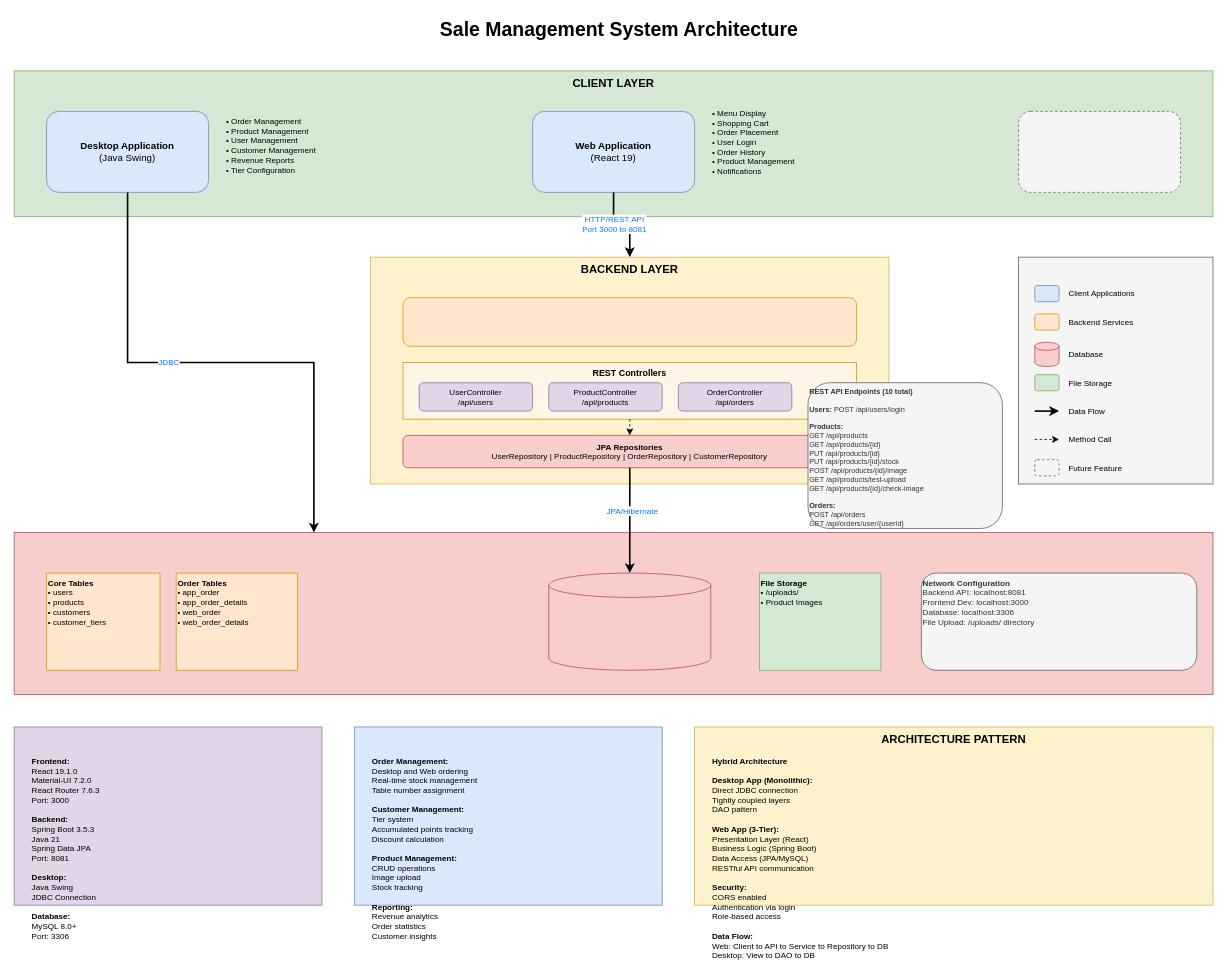
This 1227x974 diagram has some shape labels left out. The box of each missing label's shape, as (x1, y1, x2, y2) in pixels:
DATABASE LAYER: (13, 532, 1213, 695)
KEY FEATURES: (354, 726, 662, 905)
LEGEND: (1018, 256, 1213, 484)
Mobile App (Future): (1018, 111, 1181, 192)
MySQL Database (shopdb - Port 3306): (548, 572, 711, 670)
Spring Boot Backend (Java 21, Port 8081): (402, 297, 857, 346)
TECHNOLOGY STACK: (13, 726, 322, 905)
